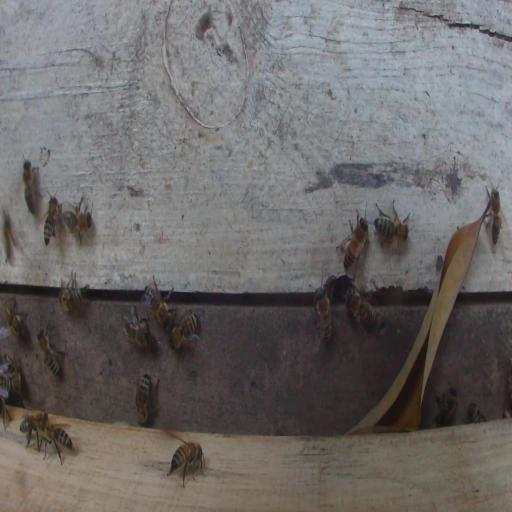nonpollenbee: (336, 210, 369, 271), (167, 440, 205, 487), (144, 274, 175, 330), (373, 199, 405, 249), (39, 421, 75, 465), (483, 184, 505, 247), (122, 303, 151, 349), (345, 290, 380, 328), (18, 410, 49, 449), (38, 327, 60, 379), (170, 313, 200, 350), (3, 295, 27, 339), (314, 289, 333, 343), (433, 386, 458, 426), (22, 157, 38, 216), (43, 189, 59, 247), (1, 353, 22, 395), (135, 373, 150, 428), (60, 289, 86, 315), (63, 209, 92, 232), (4, 214, 13, 261), (467, 402, 486, 423), (2, 395, 5, 417)
